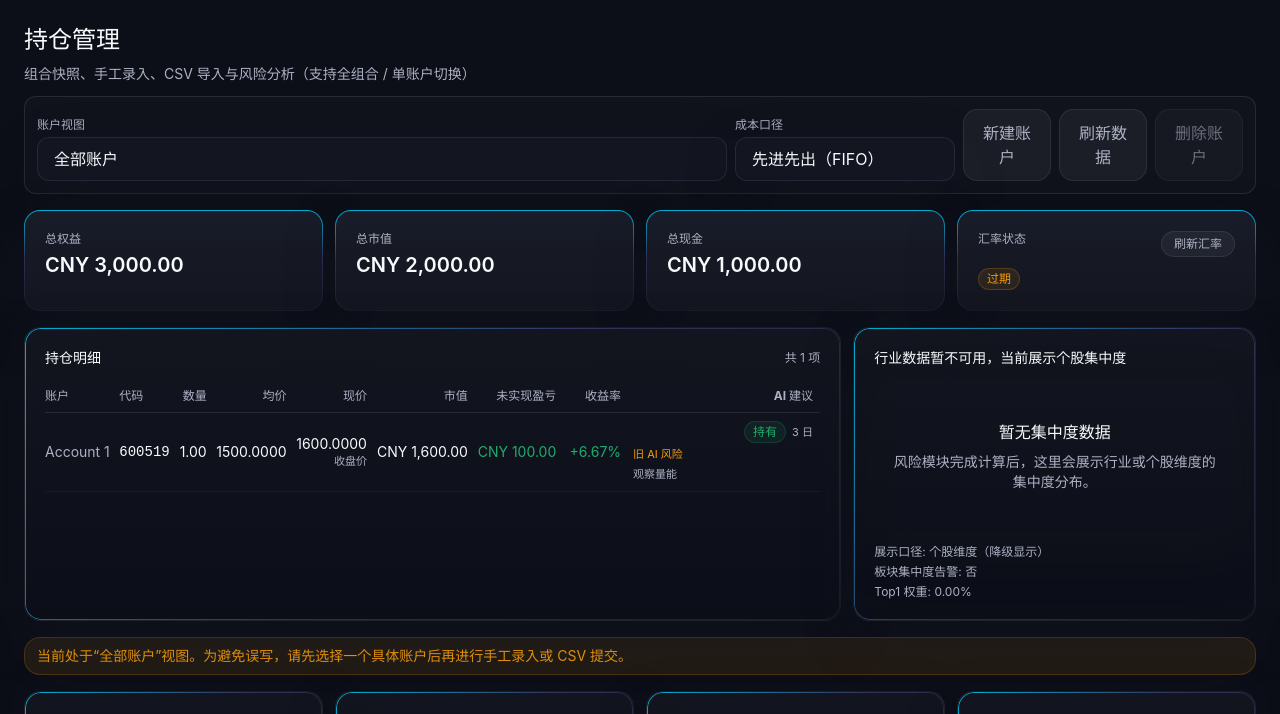
Test: PortfolioPage FX refresh › refreshes holding signals when manually refreshing unchanged portfolio data
The width and height of the screenshot is (1280, 714).
Expected: the text "旧 AI 风险" is shown, x1=633 y1=447 x2=683 y2=461
Step 1. Click the button "刷新数据" → {"x": 1103, "y": 145}, box x1=1059 y1=109 x2=1147 y2=181
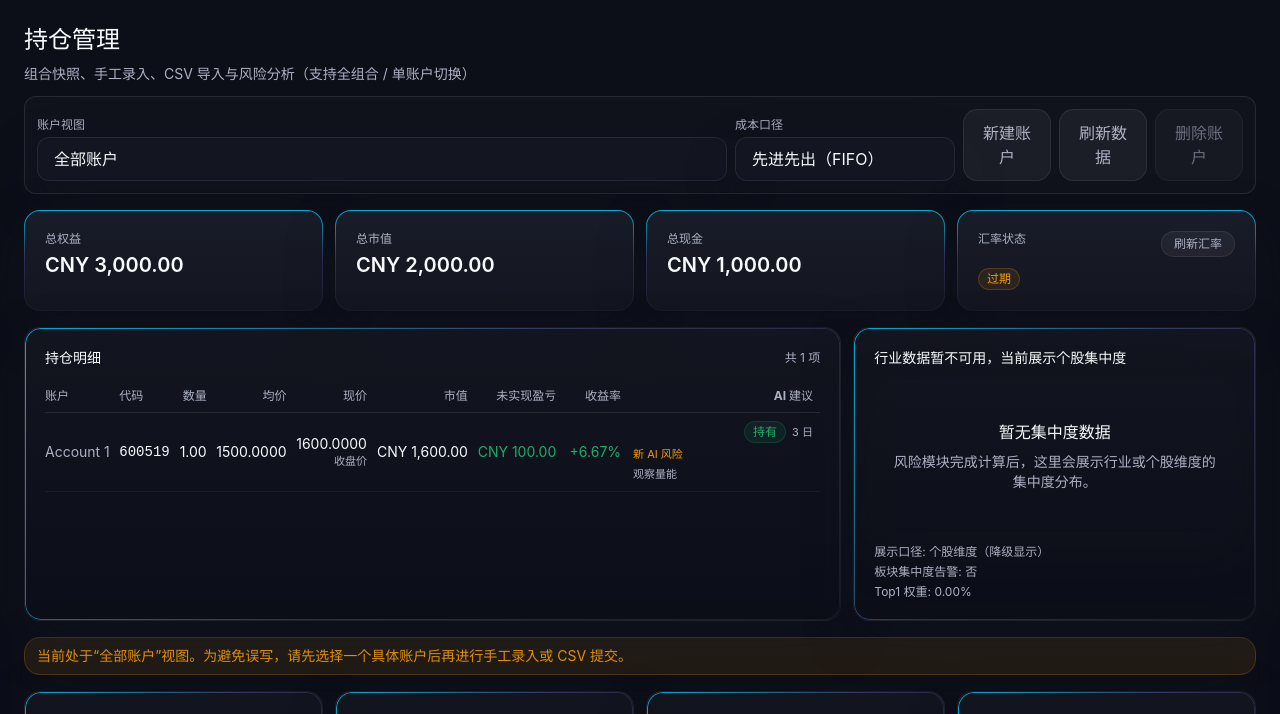
Expected: the text "新 AI 风险" is shown, x1=633 y1=447 x2=683 y2=461
Expected: the text "旧 AI 风险" is gone
